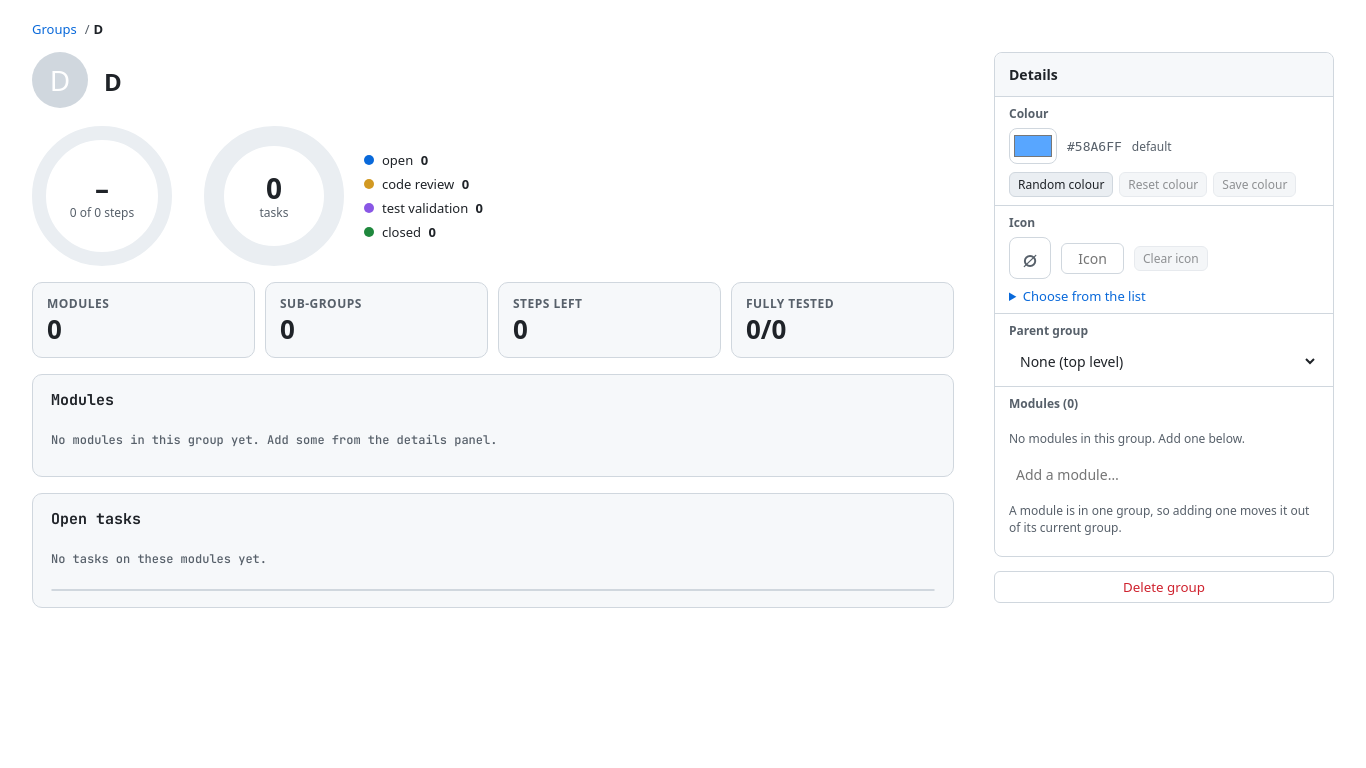
Test: parent group select › shows a server validation error inline
Select "A / B / C" in the dropdown named "Parent group": [1164, 362] box [1009,345,1319,378]
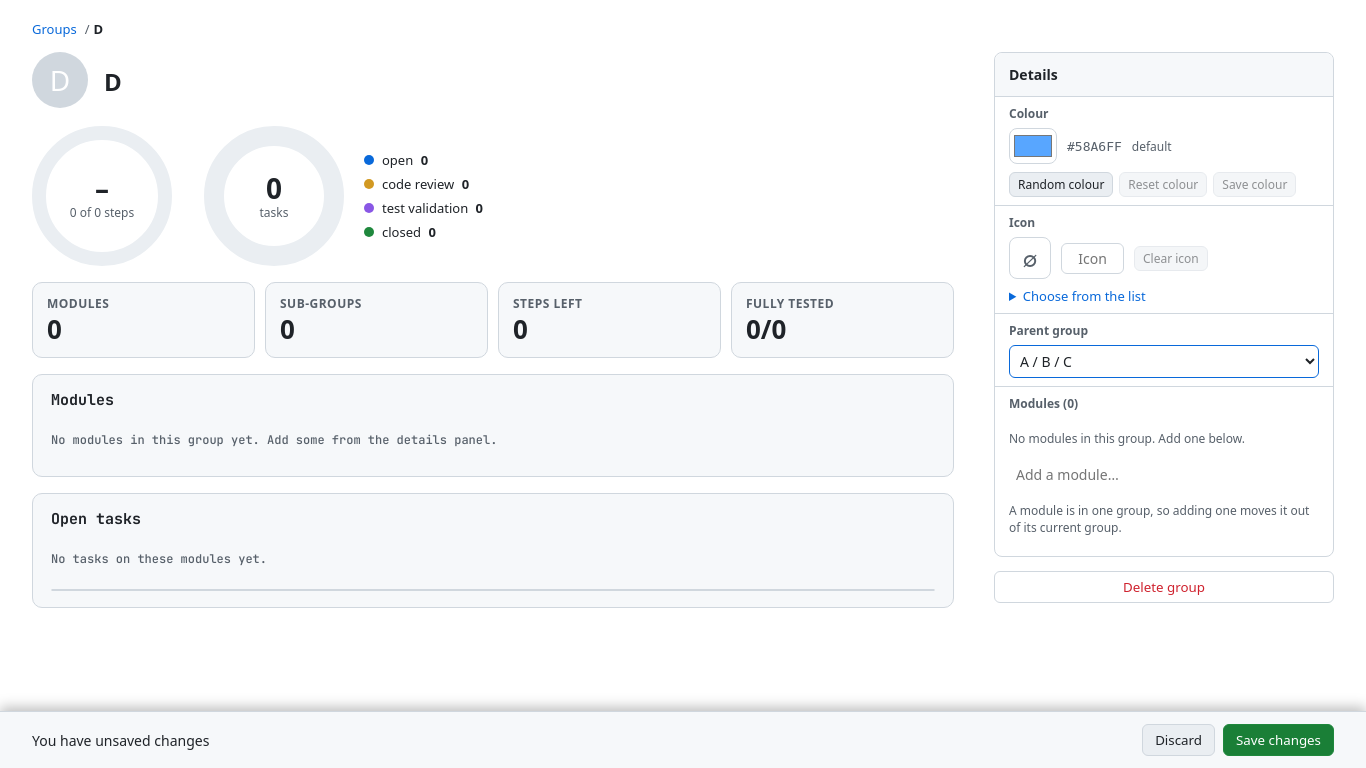
Click the button "Save changes": [1278, 740] box [1223,724,1334,756]
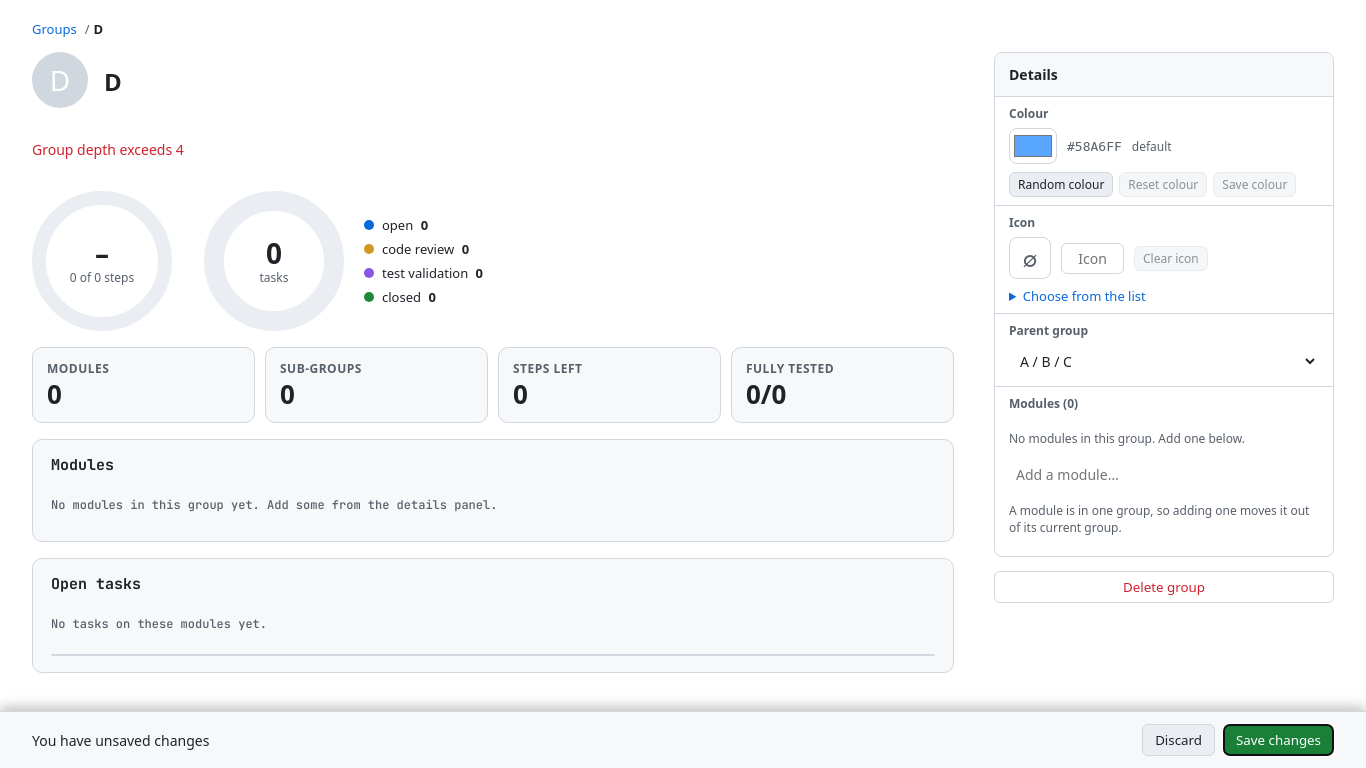
Expected: the message reads "Group depth exceeds 4", [32,140,184,159]
